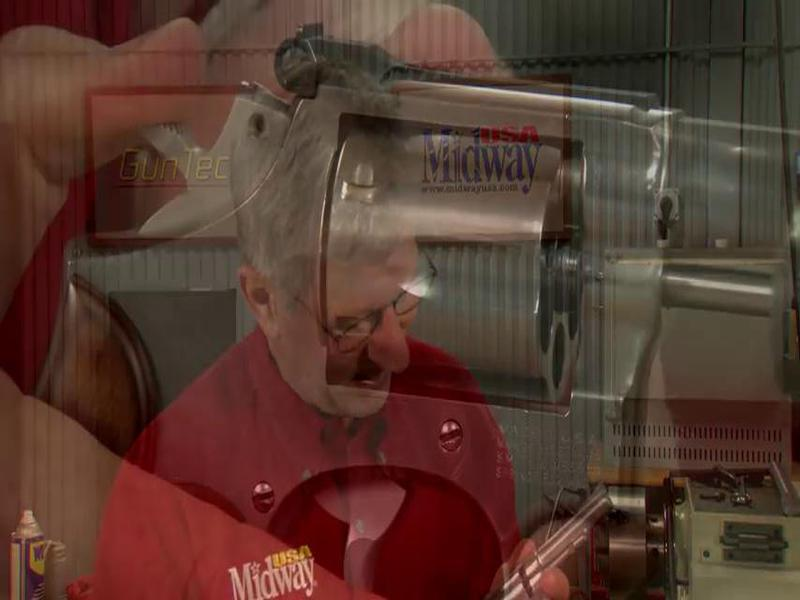Revolver: (470, 474, 635, 600)
